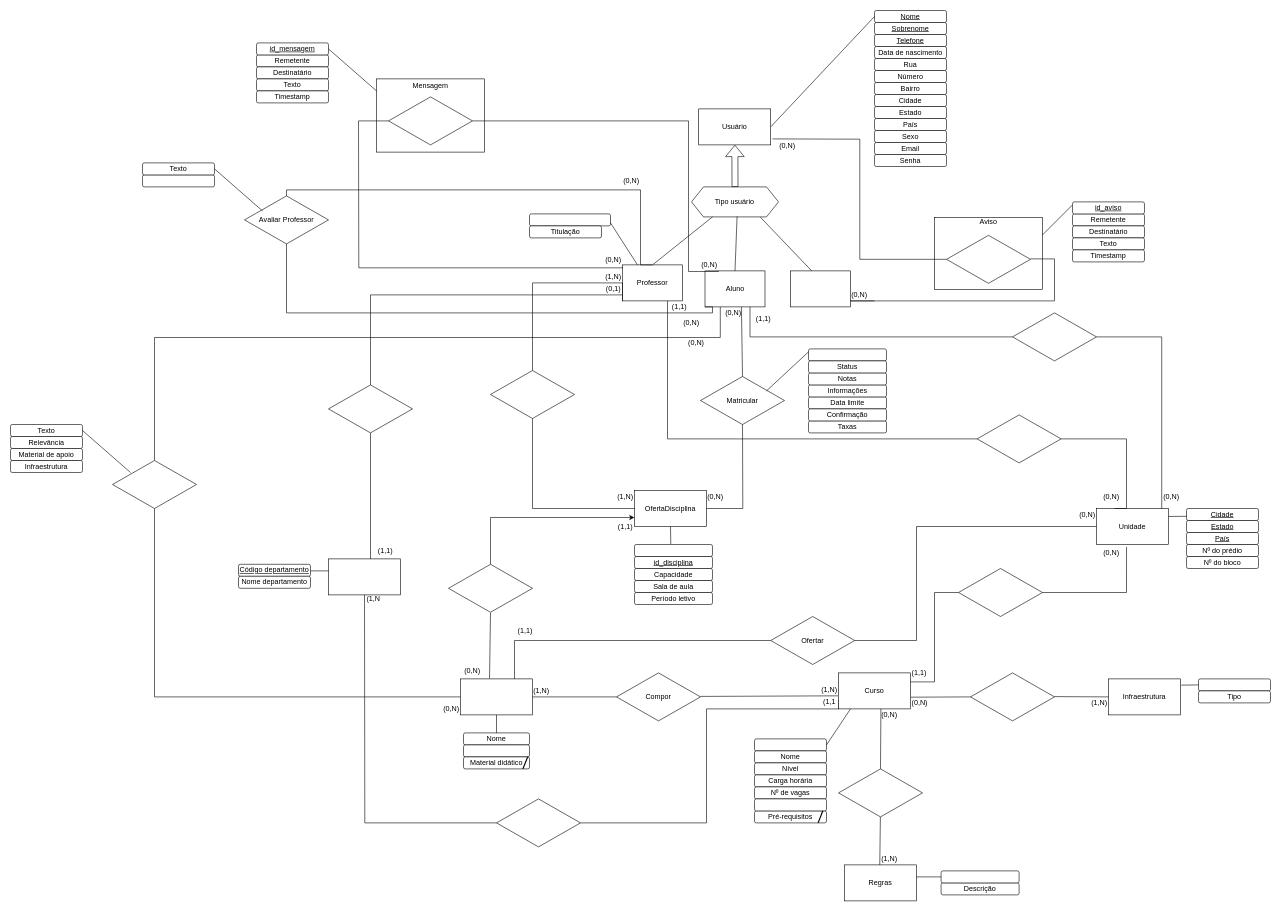
This 1281x911 diagram has some shape labels left out. Here are the shapes that lost their labels. From the top down, the centre of each, then its label:
At (x=430, y=120): "Enviar".
At (x=178, y=180): "Didática".
At (x=569, y=219): "Área de especialização".
At (x=988, y=259): "Avisar".
At (x=820, y=288): "Funcionário Administrativo".
At (x=847, y=354): "Data".
At (x=1054, y=336): "Estudar em".
At (x=370, y=408): "Chefiar".
At (x=532, y=394): "Ministrar".
At (x=1018, y=438): "Estar vinculado".
At (x=154, y=484): "Avaliar Disciplina".
At (x=673, y=550): "id_oferta".
At (x=364, y=576): "Departamento Acadêmico".
At (x=490, y=588): "Ser".
At (x=1000, y=592): "Estar localizado em".
At (x=496, y=696): "Disciplina".
At (x=1012, y=696): "Necessitar".
At (x=1234, y=684): "idInfraestrutura".
At (x=496, y=750): "qtd_aulas_semanais".
At (x=790, y=744): "codCurso".
At (x=790, y=804): "Ementa".
At (x=880, y=792): "Possuir".
At (x=538, y=822): "Pertencer".
At (x=979, y=876): "id_regra".
